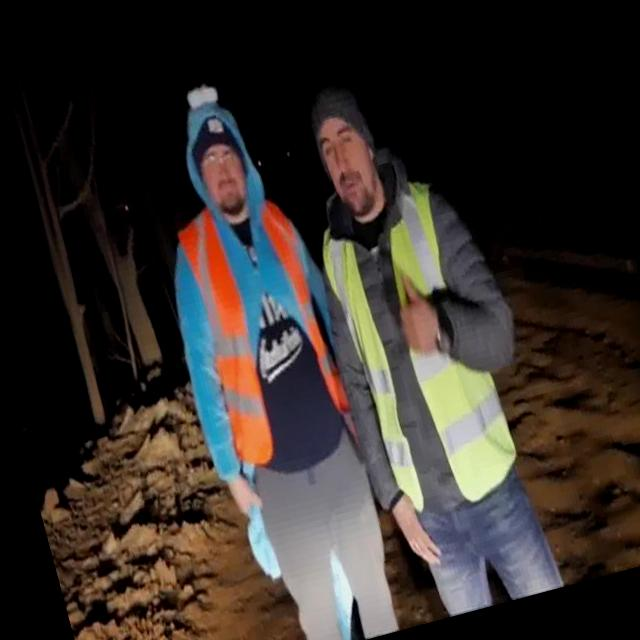no-gloves: (357, 245, 480, 397), (362, 448, 470, 573), (196, 430, 292, 544)
no-helmet: (279, 41, 413, 258), (122, 60, 276, 247)
vest: (308, 172, 528, 526), (174, 194, 351, 470)
